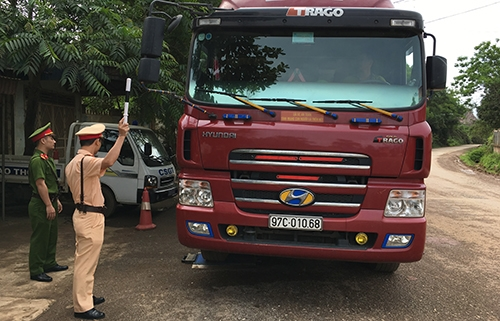police: (65, 86, 134, 318)
